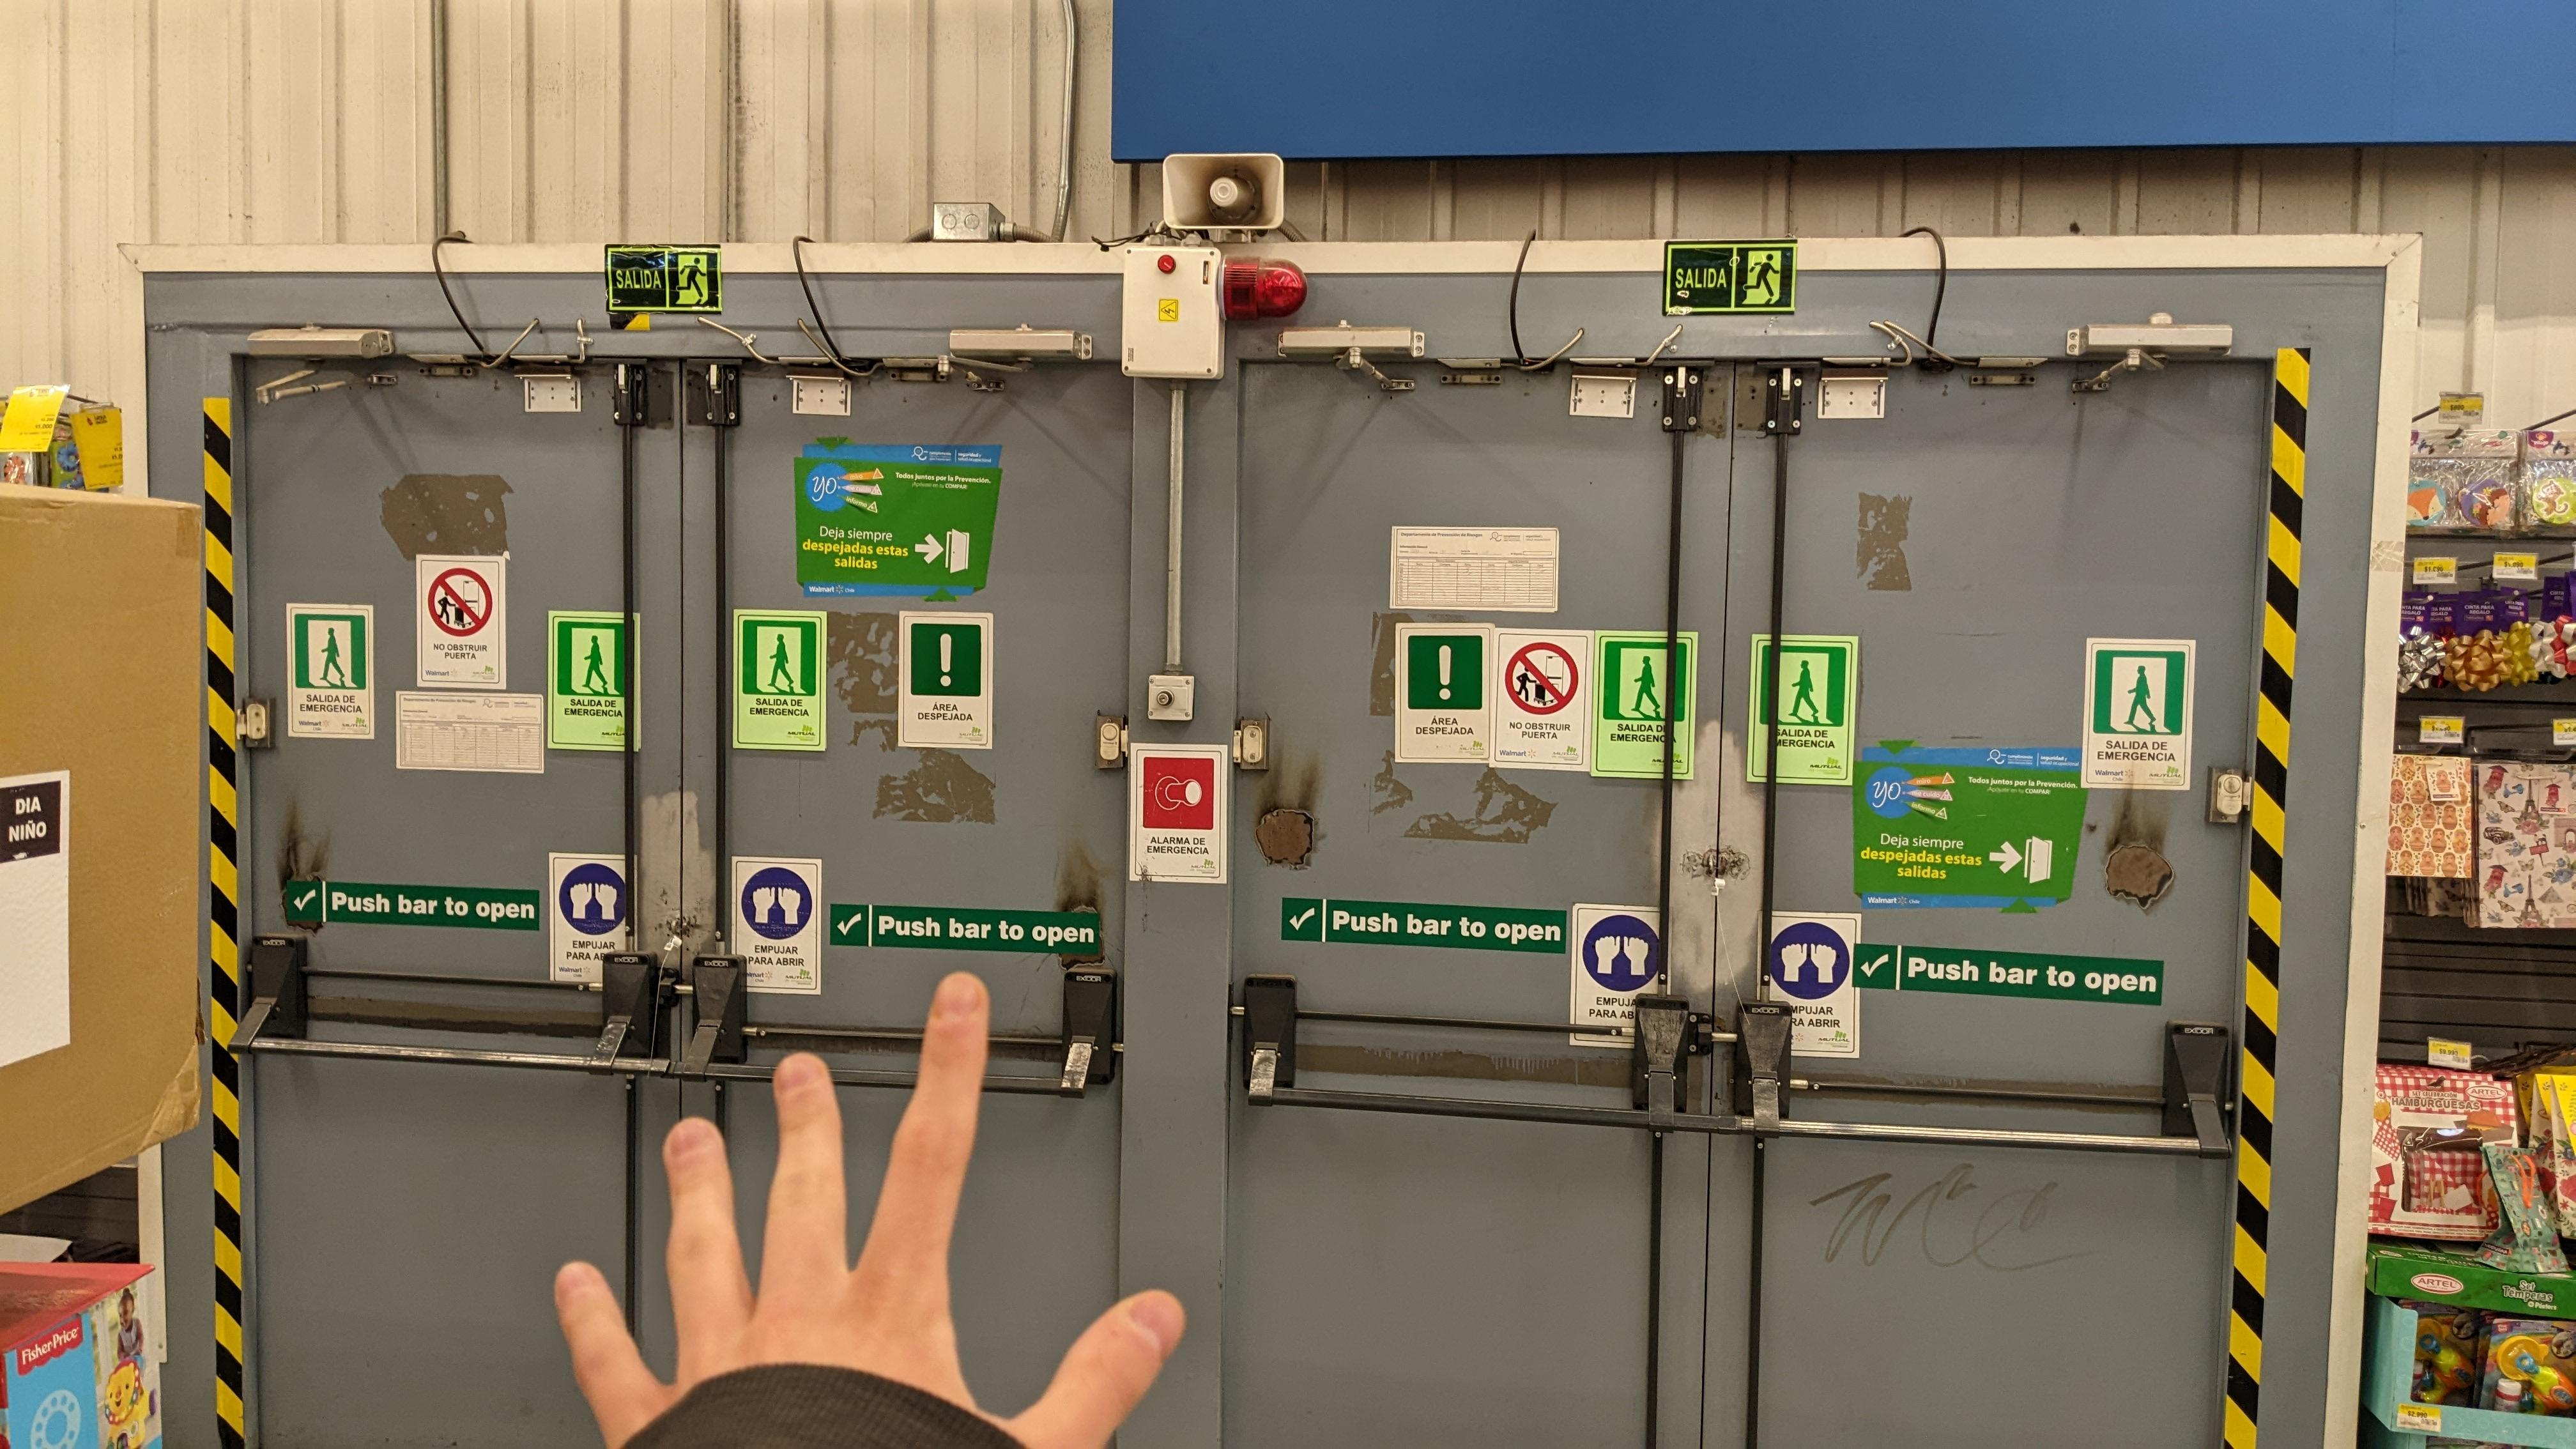emergency exit: (1743, 249, 1783, 308), (674, 253, 711, 308)
